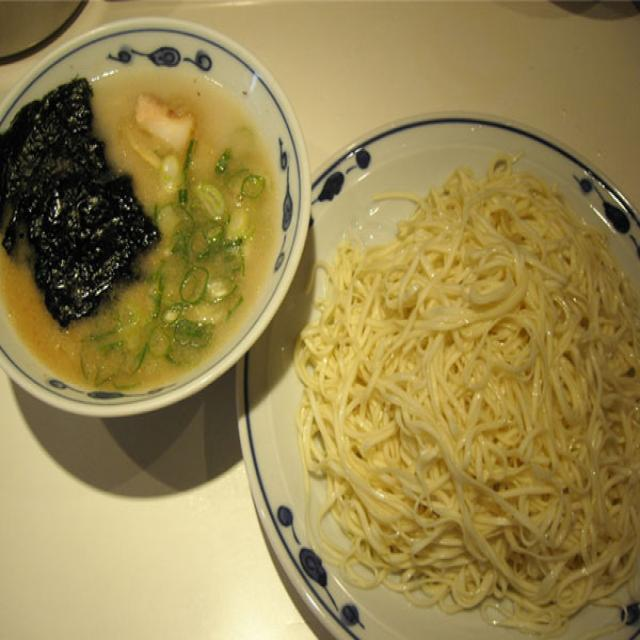面条主食: (7, 48, 637, 628)
